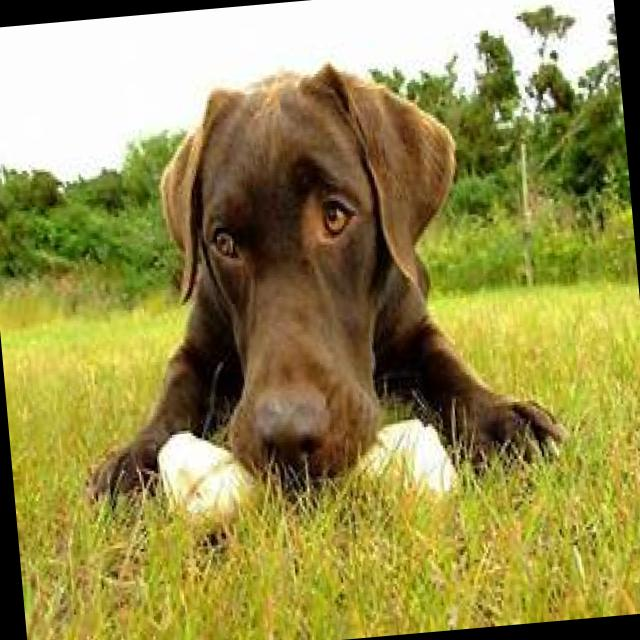animal: (35, 0, 593, 561)
